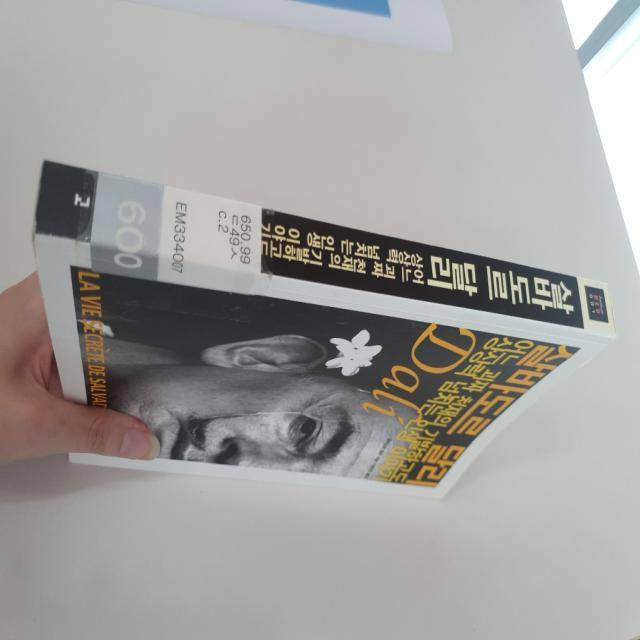Wornout: (27, 162, 50, 271), (606, 279, 621, 339)
